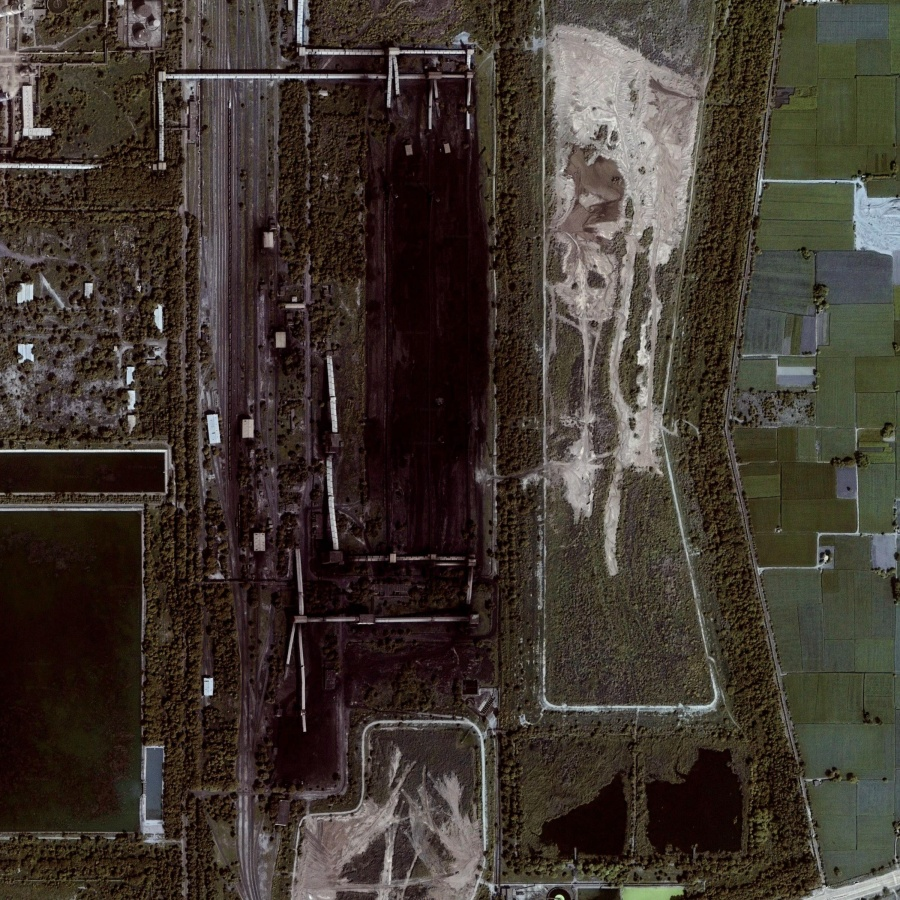PowerPlant: (150, 40, 514, 797)
